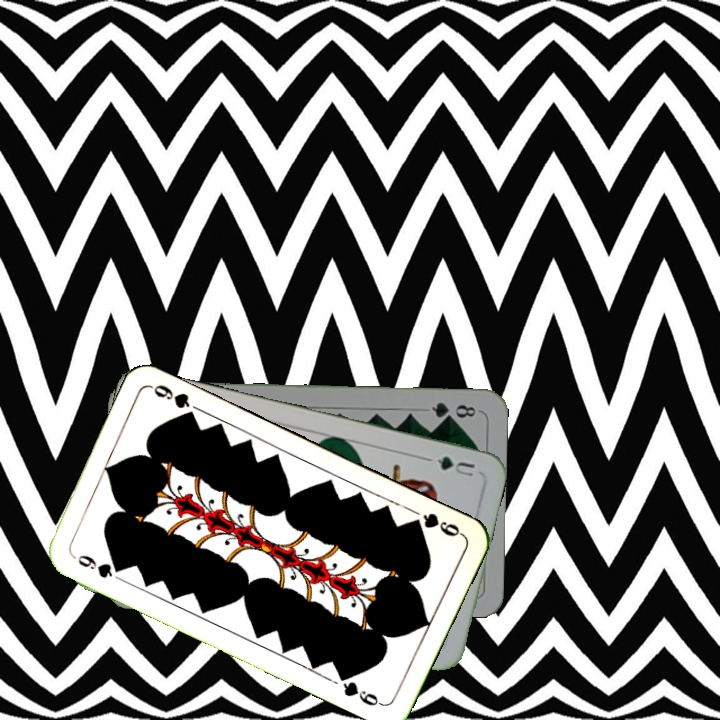G8: (428, 398, 482, 422)
G9: (406, 509, 466, 539), (68, 550, 126, 581)
GU: (423, 452, 477, 480)
